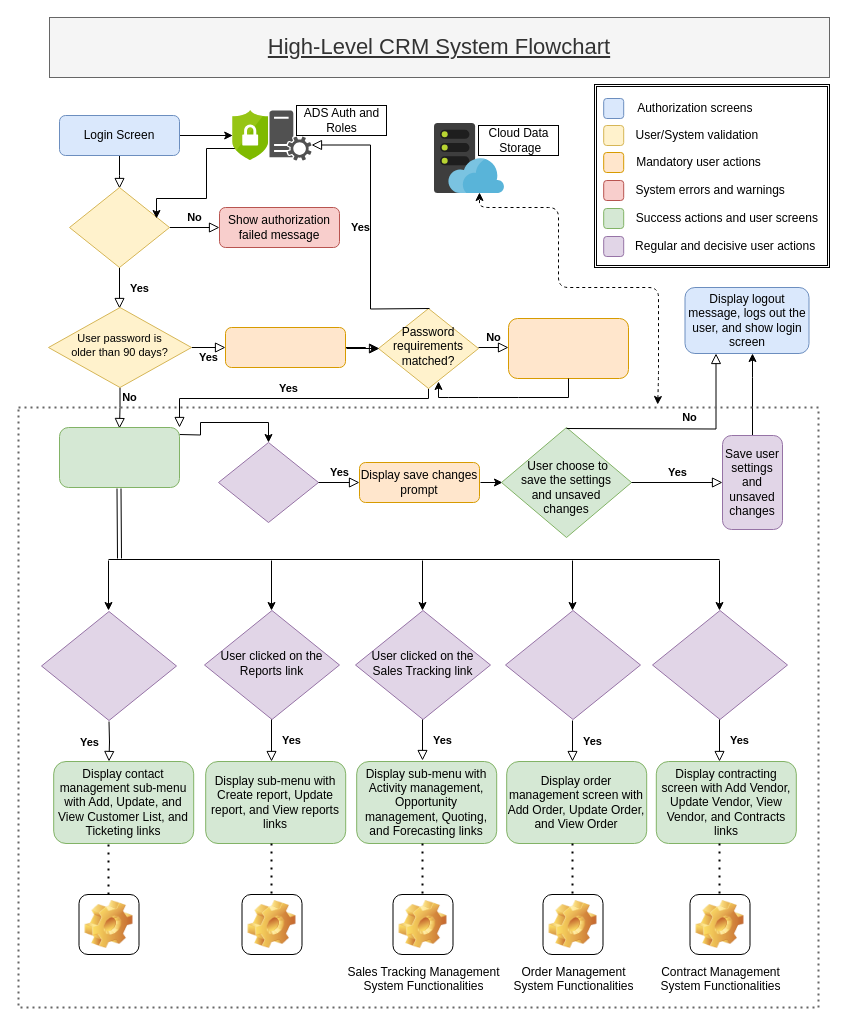
The diagram is 847 pixels wide and 1026 high, and some of its shapes have lost their labels. The centre of each missing label's shape, as x and y in pixels:
Contact Management System Functionalities: point 108,924
Display change password form: point 285,347
Display password requirements error and focus back to the password field: point 568,348
Display success message and launch dashboard: point 119,457
Report Management System Functionalities: point 271,924
User clicked on the Contact Management link: point 108,665
User clicked on the Contracting link: point 720,665
User clicked on the Order Management link: point 572,665
User clicks on a logout link: point 268,482
User credentials authorized?: point 119,227
